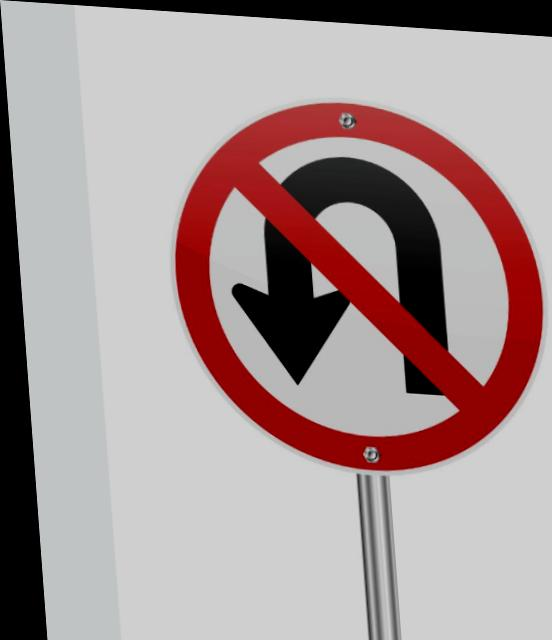not_u_turn_left: (146, 81, 552, 476)
